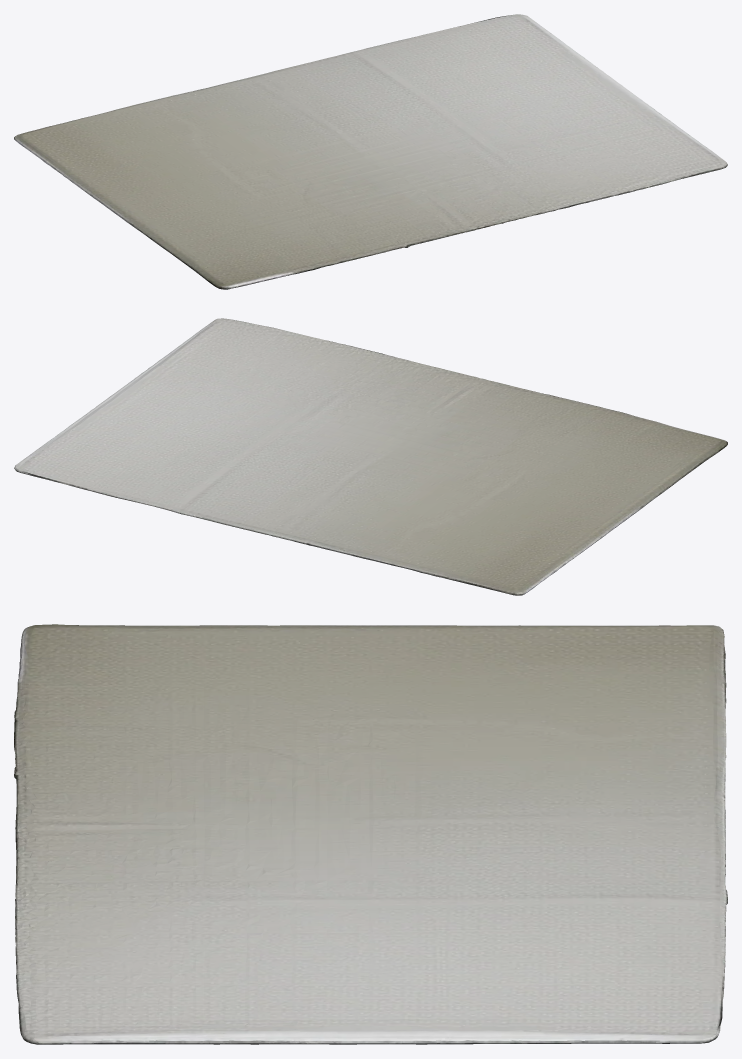
Rendered from ast_877b640e3d3c.glb.
3 views of the same model, one above another, from view 1: azimuth 30°, elevation 25°; view 2: azimuth 150°, elevation 25°; view 3: azimuth 270°, elevation 25° (orthographic). The views are drawn at different scales.
Parts seen in each view (by area): view 1: geometry_0; view 2: geometry_0; view 3: geometry_0.
Part boxes in pixels (<box>): geometry_0: <box>14,14,727,289</box>; geometry_0: <box>14,318,727,595</box>; geometry_0: <box>14,624,727,1044</box>.
Bounding box in the file's own units: 1 × 0.0116 × 0.7242.
Materials: 1 (1 with a texture image).
